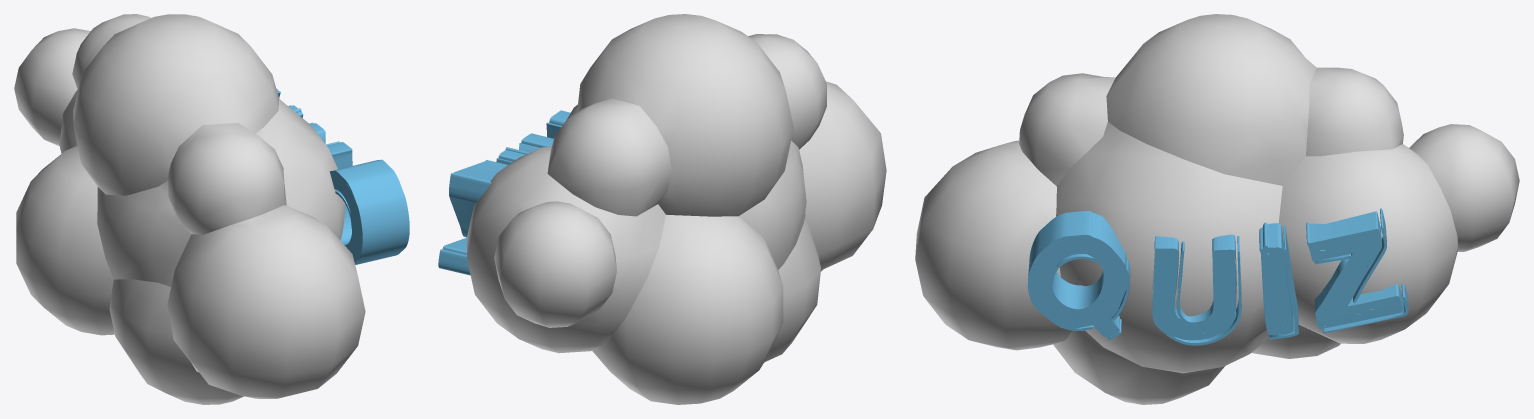
File: quizCloud.gltf
3 renders of one model, left to right at view 1: azimuth 30°, elevation 25°; view 2: azimuth 150°, elevation 25°; view 3: azimuth 270°, elevation 25°, orthographic. The views are drawn at different scales.
Parts seen in each view (by area): view 1: Object_2.001; view 2: Object_2.001; view 3: Object_2.001.
Boxes of the visible parts, x1=… form: Object_2.001: x1=14, y1=14, x2=409, y2=404; Object_2.001: x1=438, y1=14, x2=886, y2=404; Object_2.001: x1=915, y1=14, x2=1519, y2=404.
Bounding box in the file's own units: 2.13 × 2.69 × 4.
